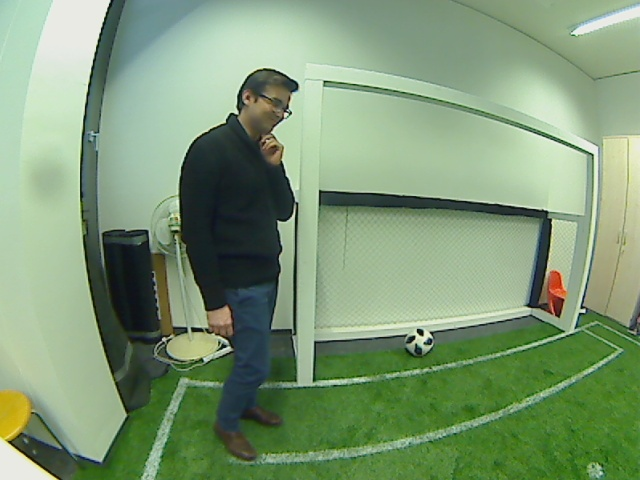ball: (402, 325, 436, 359)
